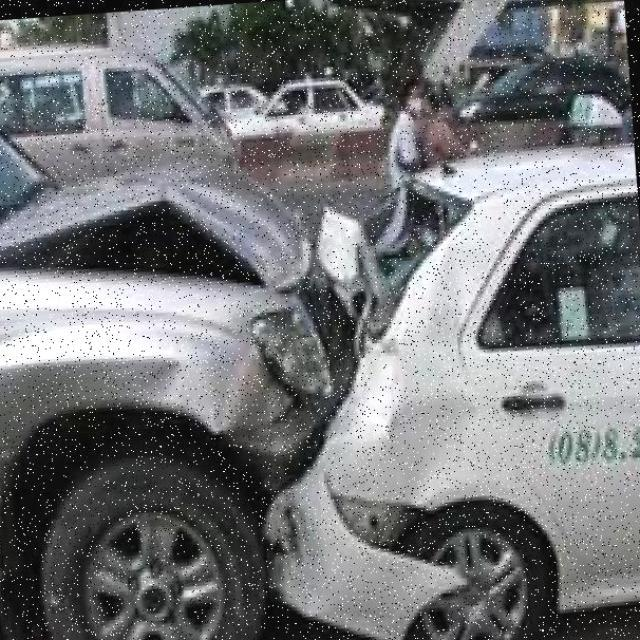accident: (0, 102, 590, 639)
